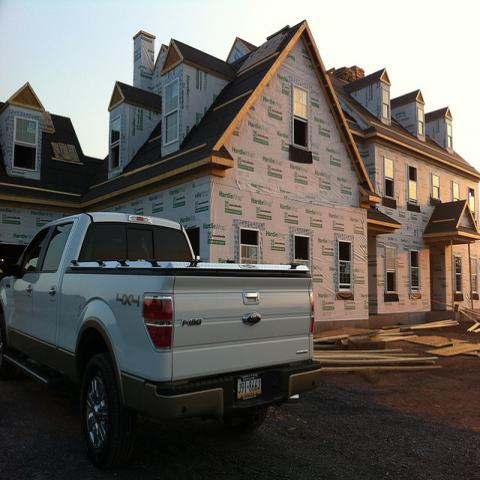truck: (0, 213, 321, 472)
